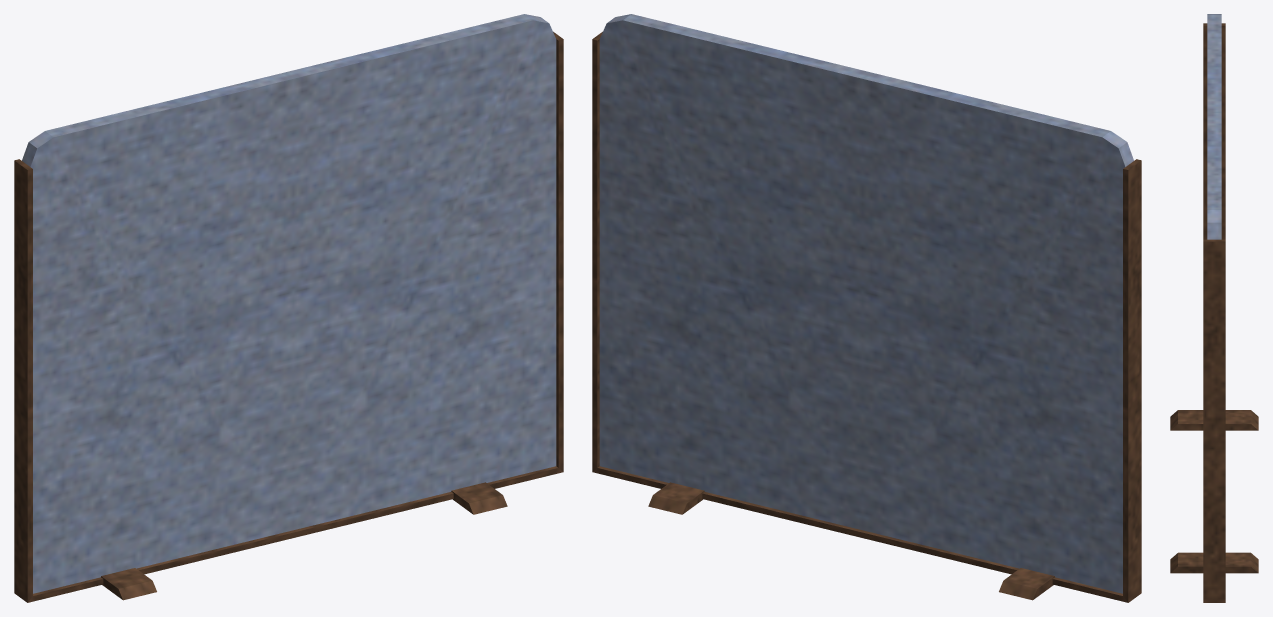
Rendered from divider_wood_blue.fbx.
The picture shows the model from 3 angles, left to right: view 1: azimuth 30°, elevation 25°; view 2: azimuth 150°, elevation 25°; view 3: azimuth 270°, elevation 25°; orthographic projection. The views are drawn at different scales.
Parts seen in each view (by area): view 1: divider_wood_blue; view 2: divider_wood_blue; view 3: divider_wood_blue.
Boxes of the visible parts, x1,y1,x2,y2 form: divider_wood_blue: [14, 14, 563, 602]; divider_wood_blue: [592, 14, 1141, 602]; divider_wood_blue: [1170, 14, 1258, 602].
Size of the model in its own units: 306 by 250 by 52.3.
Materials: 1 (1 with a texture image).
